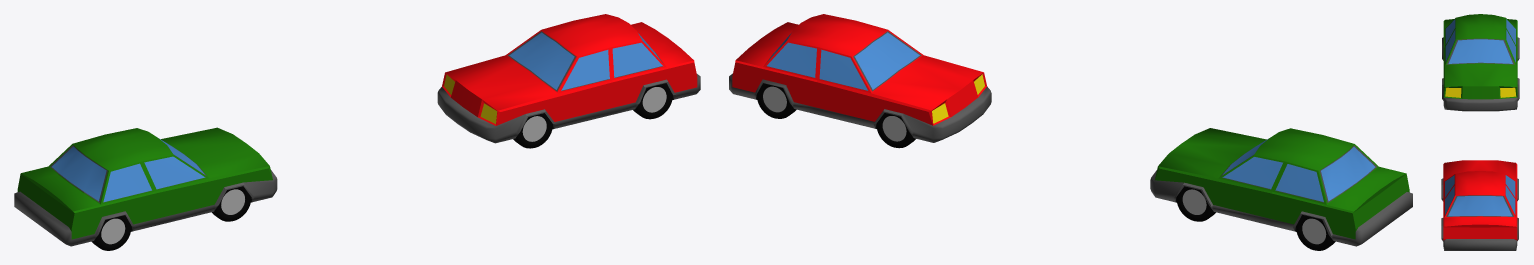
Rendered from przeszkoda1.fbx.
3 views of the same model, side by side, from view 1: azimuth 30°, elevation 25°; view 2: azimuth 150°, elevation 25°; view 3: azimuth 270°, elevation 25° (orthographic). The views are drawn at different scales.
Parts seen in each view (by area): view 1: PolonezRed, PolonezGreen; view 2: PolonezRed, PolonezGreen; view 3: PolonezGreen, PolonezRed.
Boxes of the visible parts, x1,y1,x2,y2 form: PolonezRed: [437, 14, 700, 148]; PolonezGreen: [14, 127, 277, 250]; PolonezRed: [729, 14, 991, 148]; PolonezGreen: [1150, 128, 1412, 250]; PolonezGreen: [1442, 14, 1519, 111]; PolonezRed: [1441, 160, 1518, 250].
Bounding box in the file's own units: 1355 × 159 × 211.
